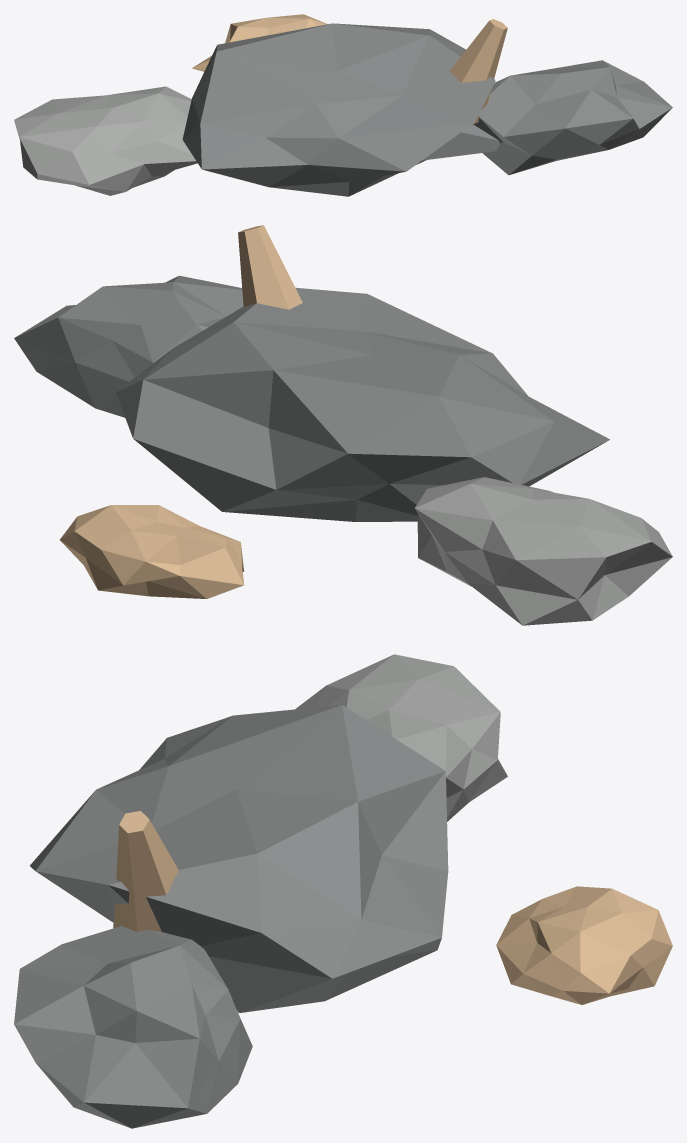
The model's file is t2_ore_depleted.glb.
3 views of the same model, one above another, from view 1: azimuth 30°, elevation 25°; view 2: azimuth 150°, elevation 25°; view 3: azimuth 270°, elevation 25° (orthographic). The views are drawn at different scales.
Parts seen in each view (by area): view 1: OreRubbleCenter, OreRubbleLeft, OreRubbleRight, SpentOreShard, OreChip; view 2: OreRubbleCenter, OreRubbleLeft, OreRubbleRight, OreChip, SpentOreShard; view 3: OreRubbleCenter, OreRubbleRight, OreChip, OreRubbleLeft, SpentOreShard.
Part boxes in pixels (left/top/right/bottom): OreRubbleCenter: left=182, top=23, right=499, bottom=196; OreRubbleLeft: left=14, top=86, right=197, bottom=195; OreRubbleRight: left=473, top=60, right=672, bottom=175; SpentOreShard: left=449, top=19, right=507, bottom=124; OreChip: left=192, top=14, right=327, bottom=71; OreRubbleCenter: left=116, top=287, right=609, bottom=521; OreRubbleLeft: left=414, top=477, right=672, bottom=625; OreRubbleRight: left=14, top=275, right=243, bottom=417; OreChip: left=60, top=505, right=244, bottom=598; SpentOreShard: left=238, top=225, right=302, bottom=309; OreRubbleCenter: left=30, top=705, right=448, bottom=1013; OreRubbleRight: left=14, top=926, right=252, bottom=1128; OreChip: left=496, top=886, right=672, bottom=1004; OreRubbleLeft: left=295, top=654, right=507, bottom=821; SpentOreShard: left=114, top=811, right=178, bottom=931.
Bounding box in the file's own units: 0.9552 × 0.2367 × 0.6512.
